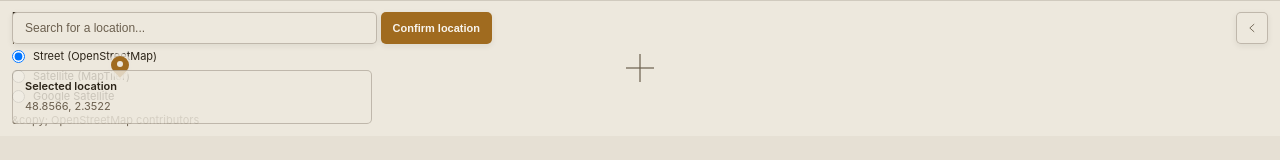
it: LocationTab map failures › reviews a clicked placement before confirming it
Click the button "Confirm location" at (436, 28), box [381, 12, 492, 44]
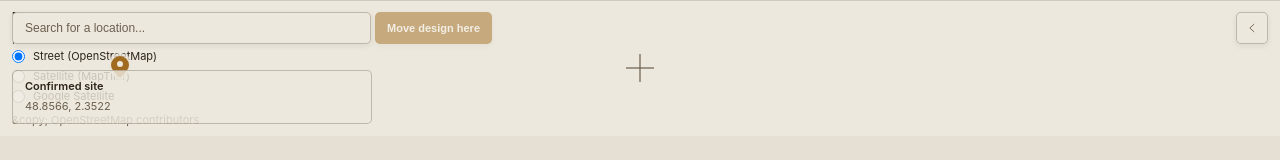
expect the text "Confirmed site" is shown: met, box [25, 79, 104, 93]
expect the text "Move design here" is shown: met, box [375, 12, 492, 44]
